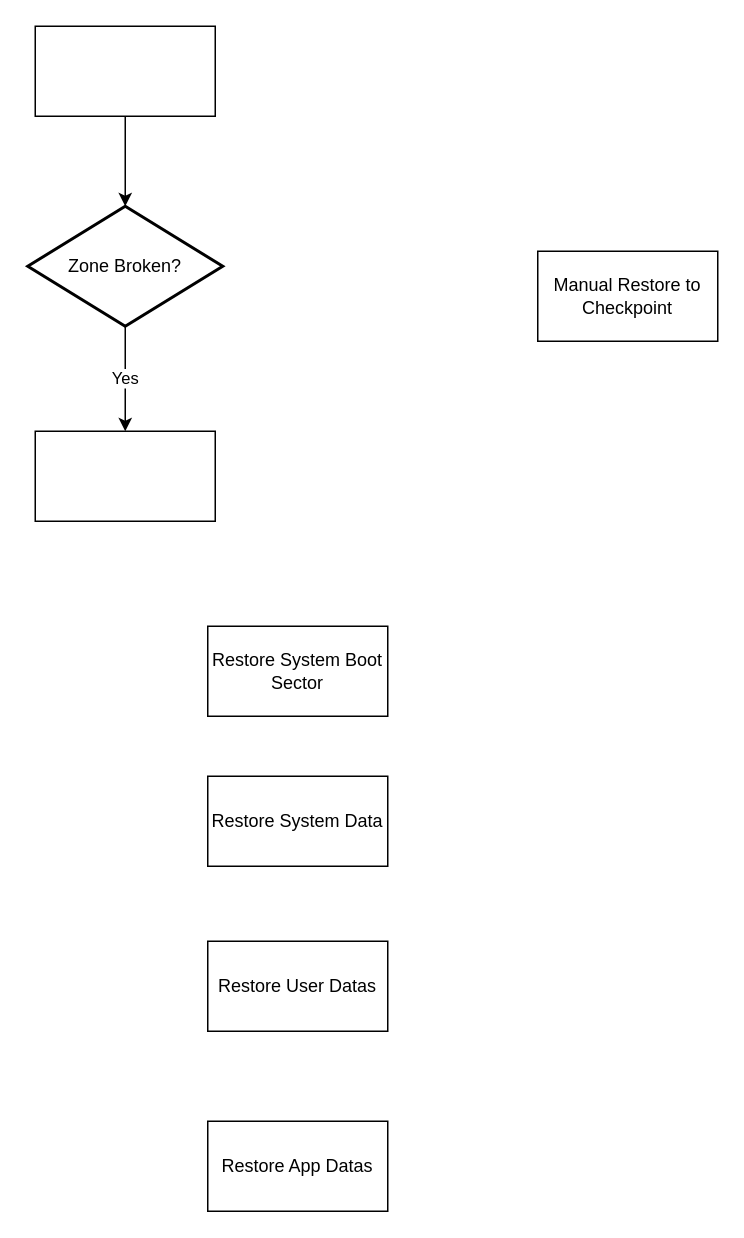
Image size: 744x1238. Some labels were removed from this diagram. Each missing label, with the centre of its shape:
"Acitve Brand New Device" belongs at point 124,70.
"Try Automatic Restore" belongs at point 124,475.
